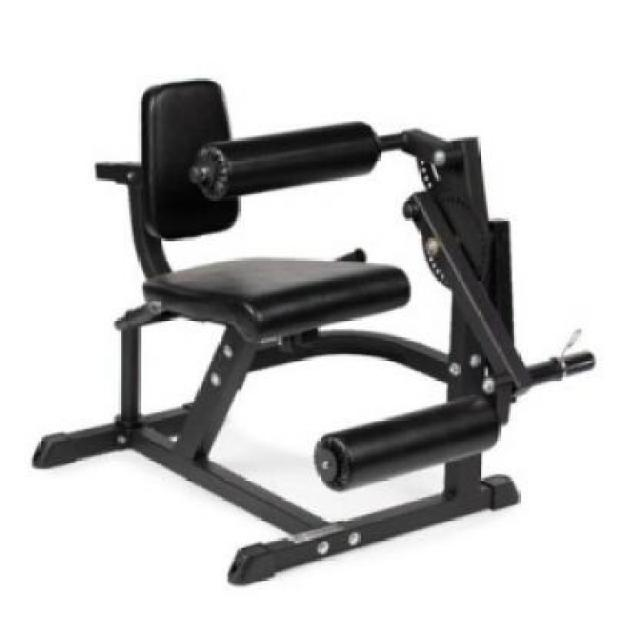leg extension: (24, 66, 598, 599)
